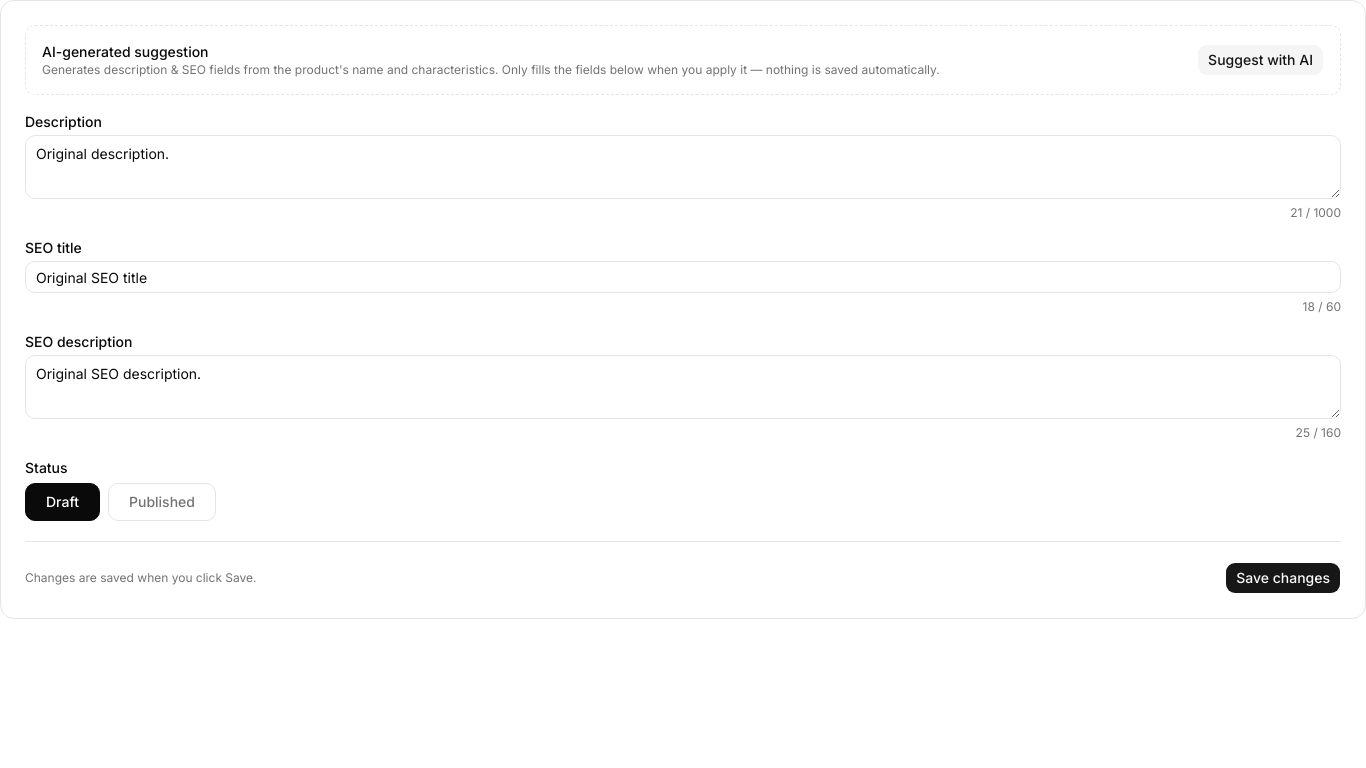
Test: ProductEditorForm suggestion flow › shows a network-error message when the request throws
Click the button "Suggest with AI" at (1261, 60), box [1197,44,1324,76]
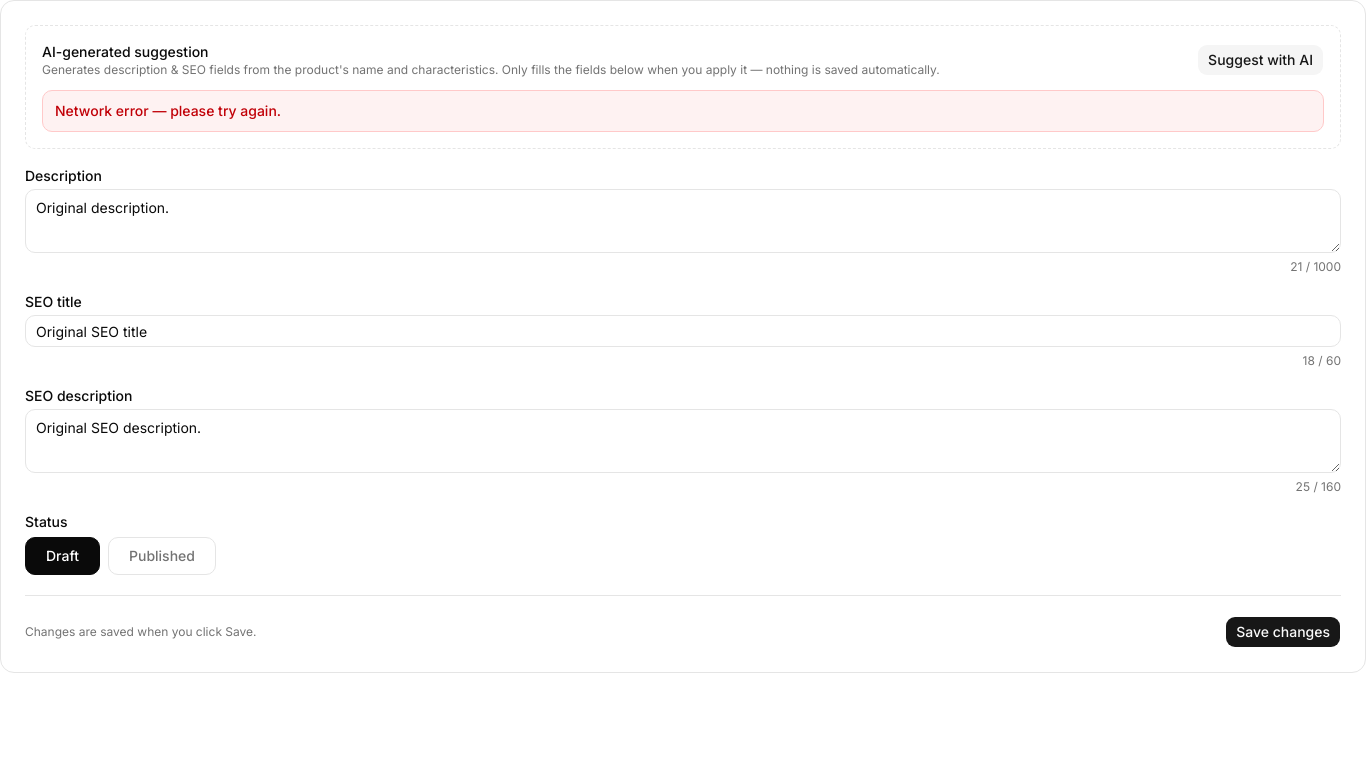
Expected: the text box labelled "Description" holds "Original description.", [25,189,1341,253]
Now the text "Network error — please try again." is shown, box [42,90,1324,132]
